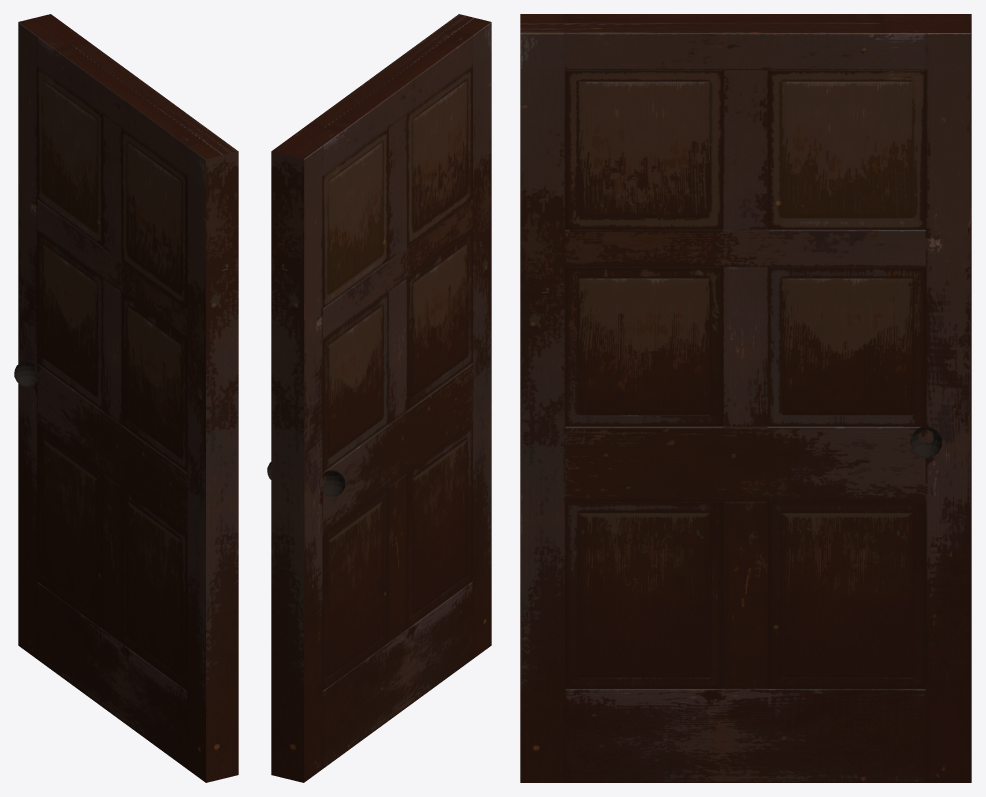
File: door_m1c.fbx
The picture shows the model from 3 angles, left to right: view 1: azimuth 30°, elevation 25°; view 2: azimuth 150°, elevation 25°; view 3: azimuth 270°, elevation 25°; orthographic projection. The views are drawn at different scales.
Parts seen in each view (by area): view 1: Door; view 2: Door; view 3: Door.
Boxes of the visible parts, x1=… form: Door: x1=14, y1=14, x2=238, y2=782; Door: x1=267, y1=14, x2=491, y2=782; Door: x1=520, y1=14, x2=971, y2=782.
Bounding box in the file's own units: 2 × 0.4591 × 3.67.
